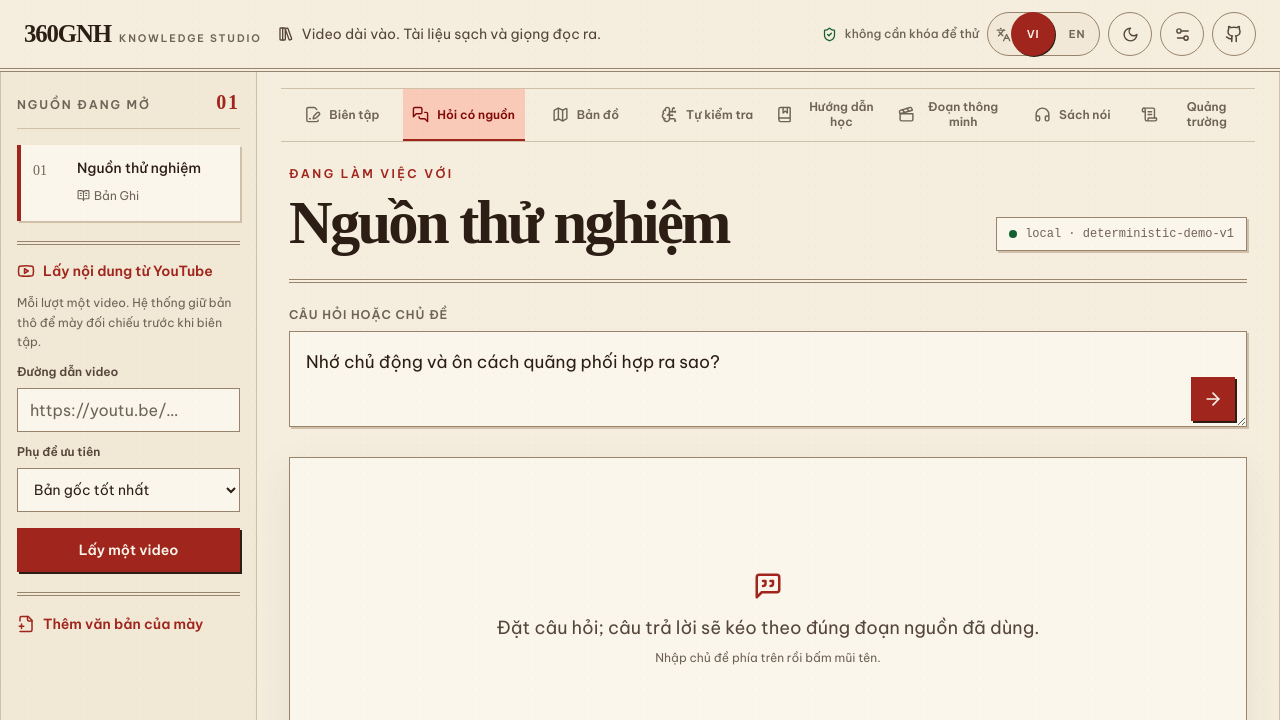
Test case: Knowledge Studio app › switches tools and renders a source-grounded mindmap
Expected: the heading "Nguồn thử nghiệm" is shown, [289, 189, 729, 256]
What coordinates should you click on to do the following:
click the tab "Bản đồ"
I would click on:
 (585, 115)
Its box is [524, 89, 646, 141].
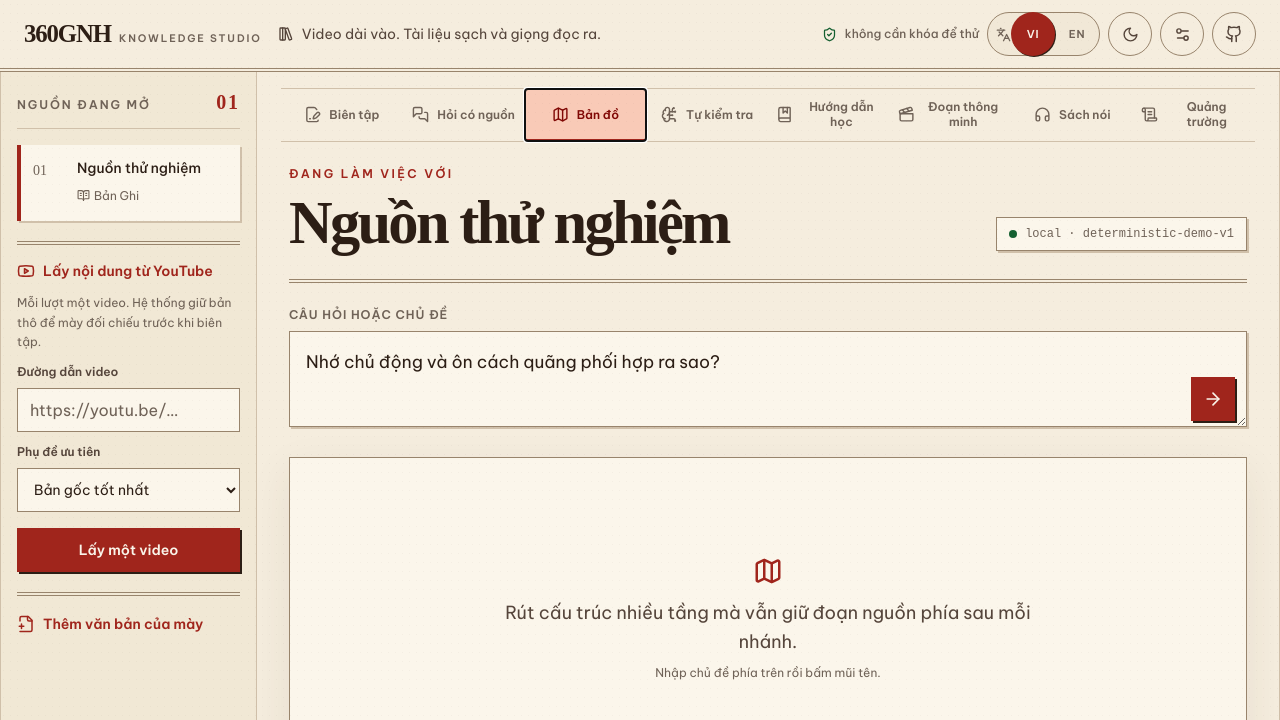
What coordinates should you click on to do the following:
click the button named "Chạy công cụ đang chọn"
I would click on:
 (1213, 400)
Its box is [1191, 378, 1235, 422].
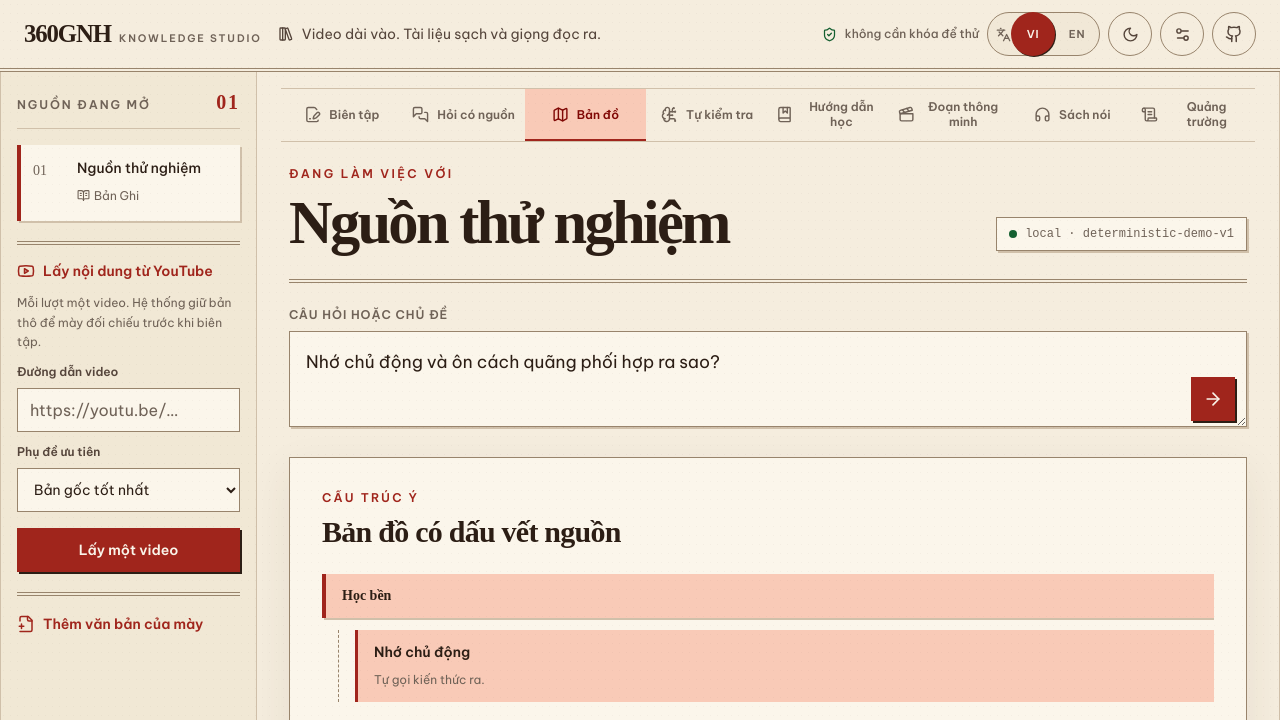
Expected: the text "Học bền" is shown, [342, 588, 391, 604]
Expected: the text "Tự gọi kiến thức ra." is shown, [374, 672, 485, 688]
